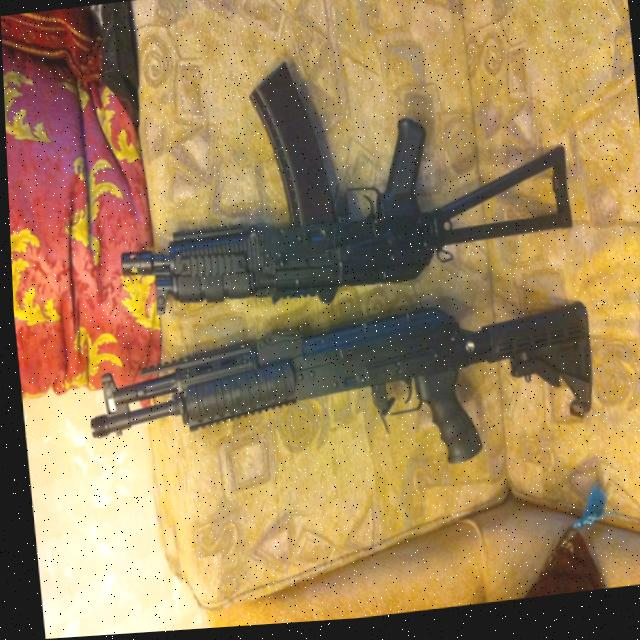firearm: (102, 41, 573, 322), (79, 292, 594, 505)
